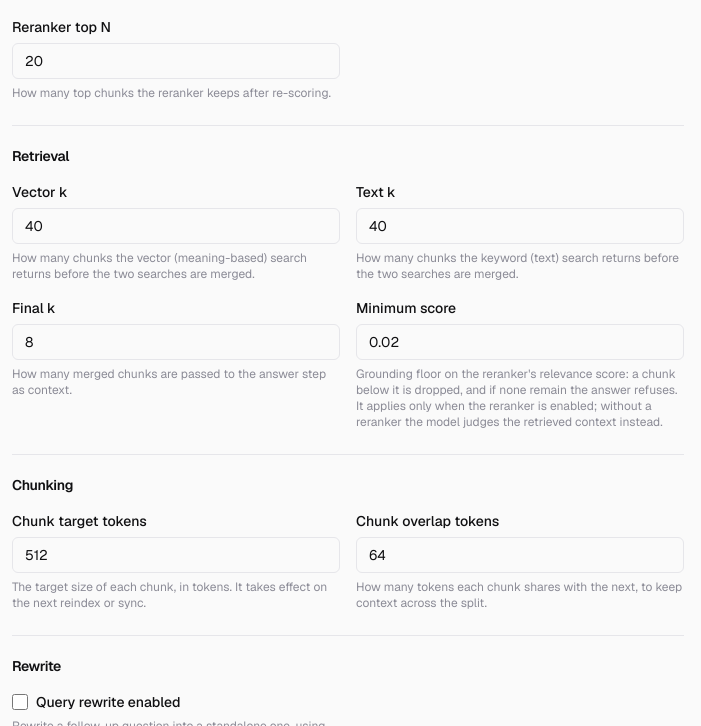
SettingsForm (errors) › surfaces the top-level banner and the per-field messages
The width and height of the screenshot is (701, 726).
(page scrolled)
Replace the text in the number field labelled "Minimum score" with "9" at (520,342), box left=356, top=324, right=684, bottom=360
(page scrolled)
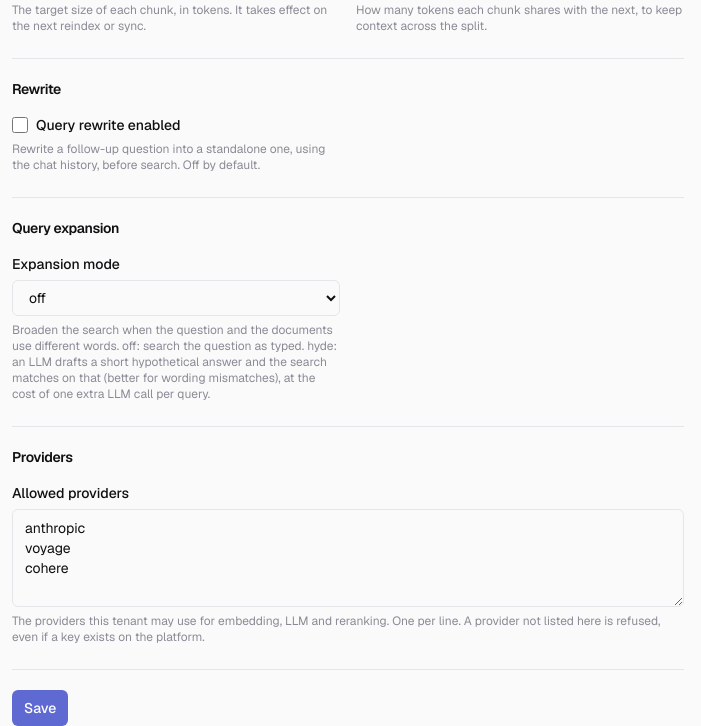
Click the button "Save" at (40,708), box left=12, top=690, right=68, bottom=725
(page scrolled)
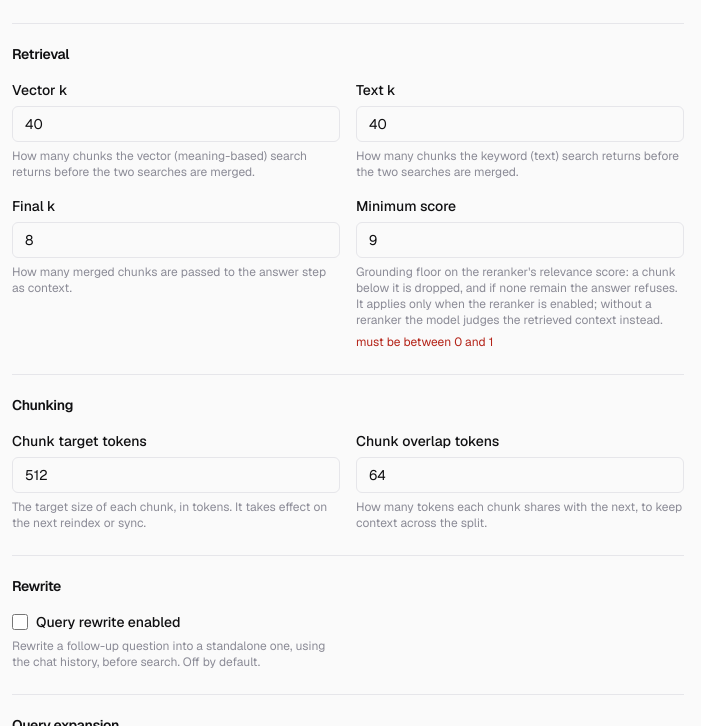
Now the text "must be between 0 and 1" is shown, box left=356, top=334, right=493, bottom=350
